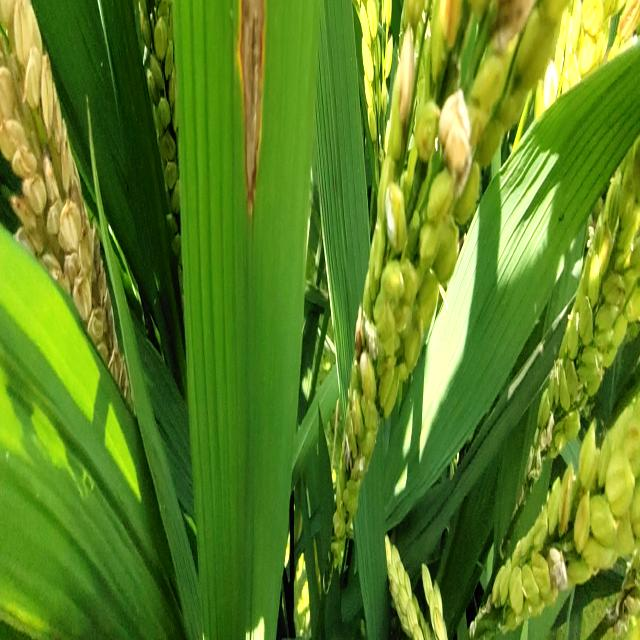LEAF BLAST: (239, 0, 265, 214)
